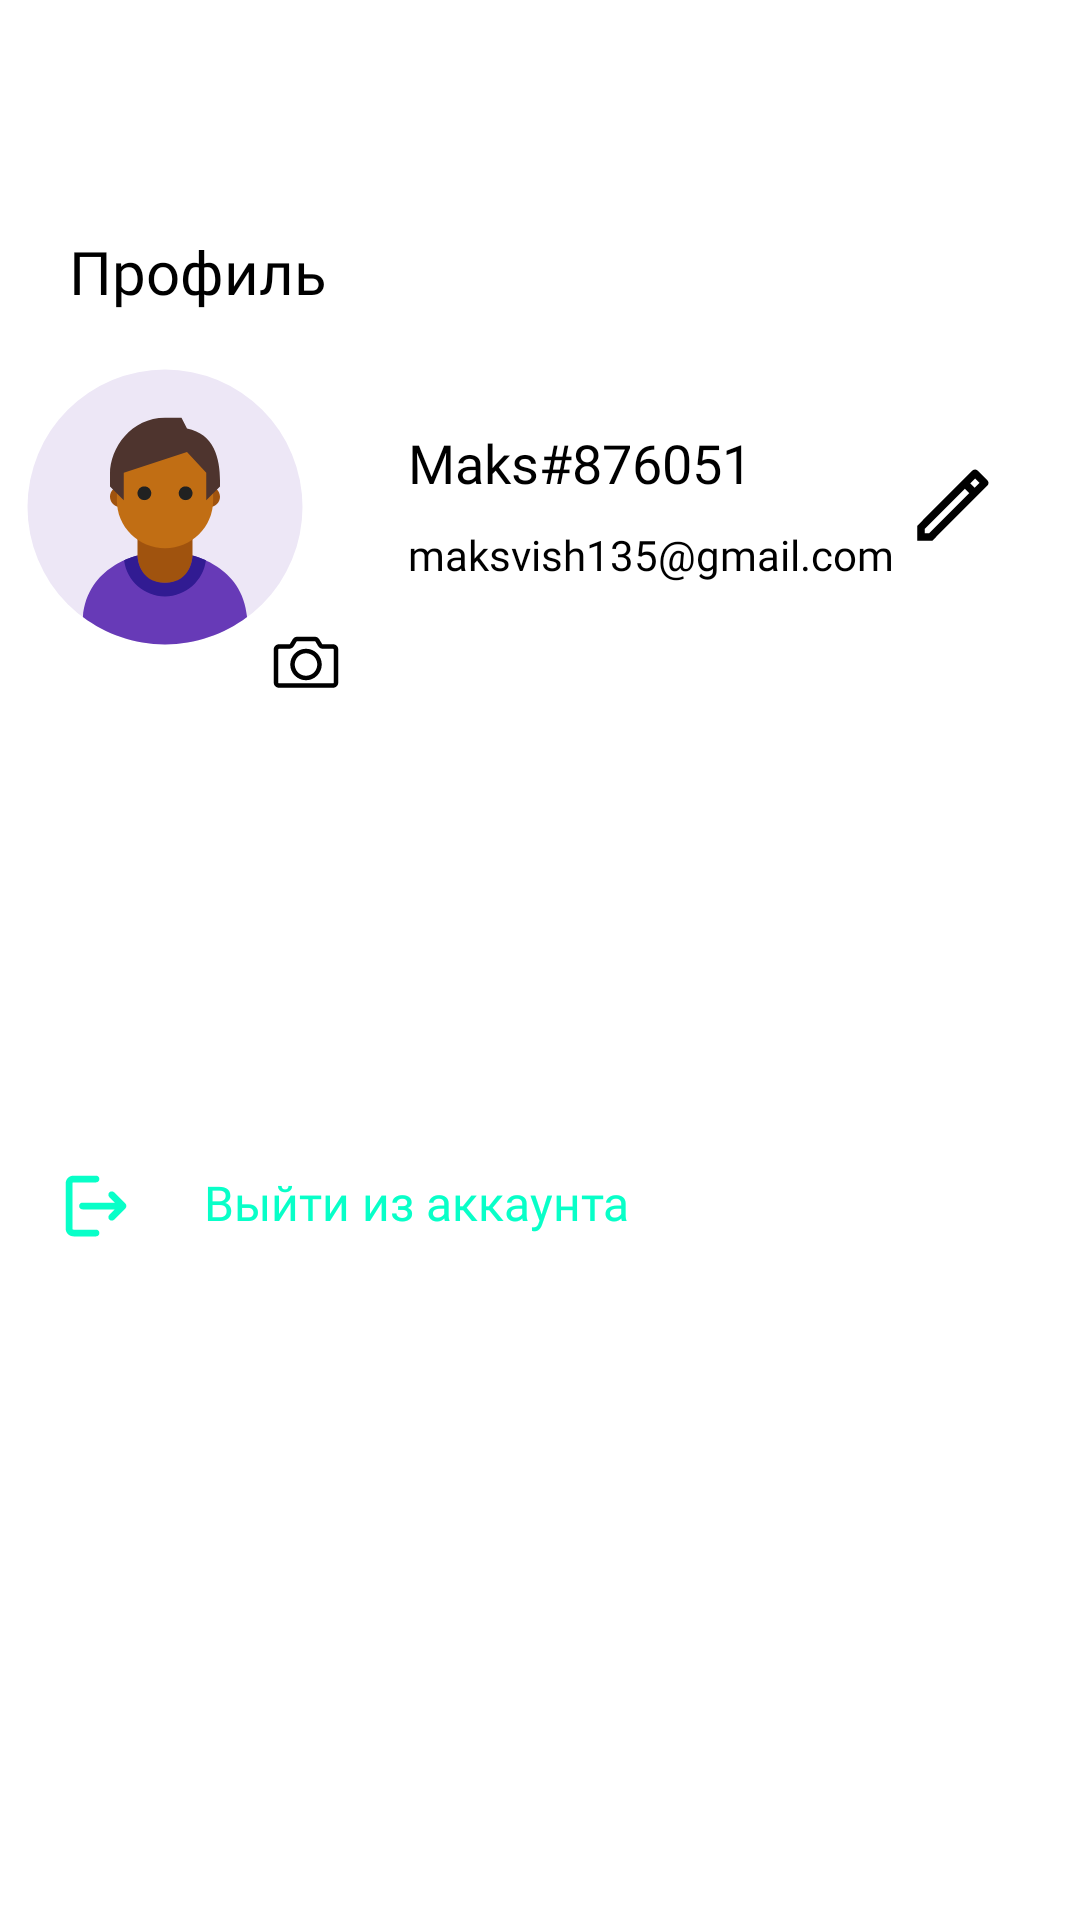

Named icons in this screenshot (1080px x 1920px) and their bounding boxes, rect(x1, y1, x2, y2):
edit: rect(917, 469, 989, 541)
log out: rect(65, 1175, 127, 1237)
